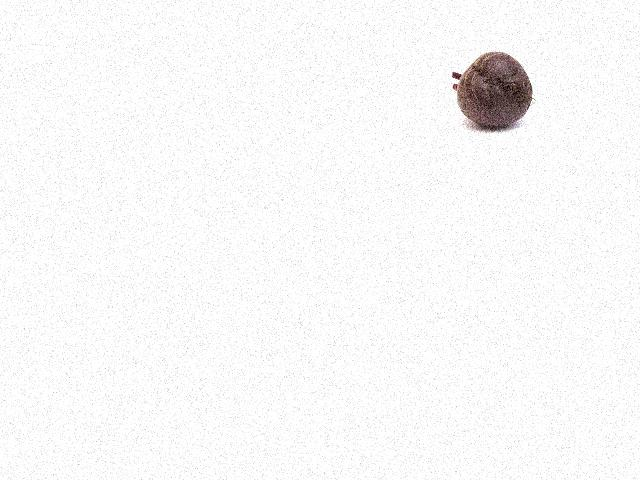beet: (453, 51, 533, 129)
